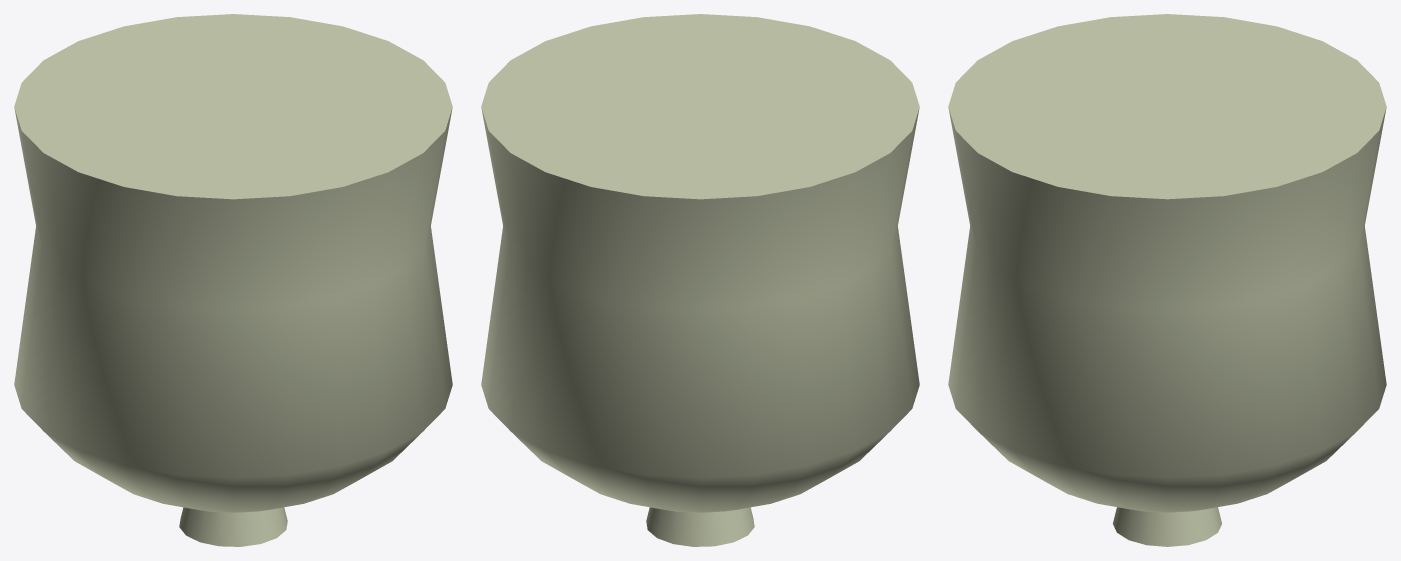
The model's file is delphini_us_engine_s1_1.obj.
3 views of the same model, side by side, from view 1: azimuth 30°, elevation 25°; view 2: azimuth 150°, elevation 25°; view 3: azimuth 270°, elevation 25° (orthographic).
Visible parts, largest first — view 1: Cylinder2; view 2: Cylinder2; view 3: Cylinder2.
Part boxes in pixels (x1=…): Cylinder2: x1=14, y1=14, x2=452, y2=546; Cylinder2: x1=481, y1=14, x2=919, y2=546; Cylinder2: x1=948, y1=14, x2=1386, y2=546.
Bounding box in the file's own units: 1.25 × 1.31 × 1.25.
